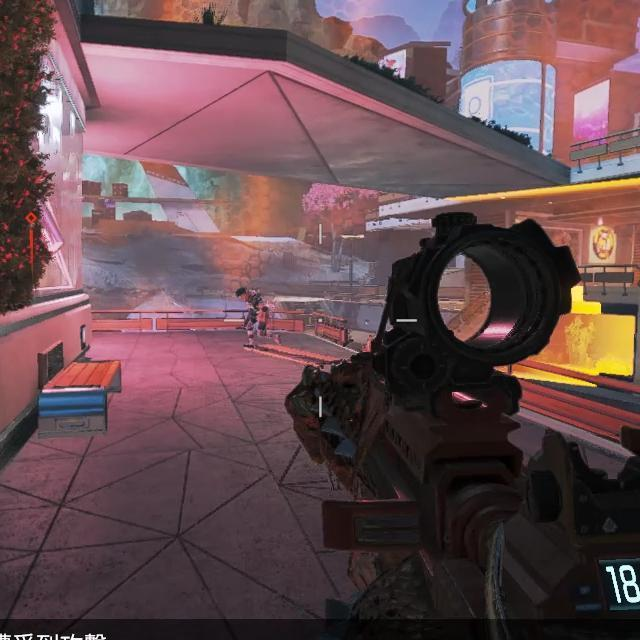avatar: (234, 284, 271, 353)
